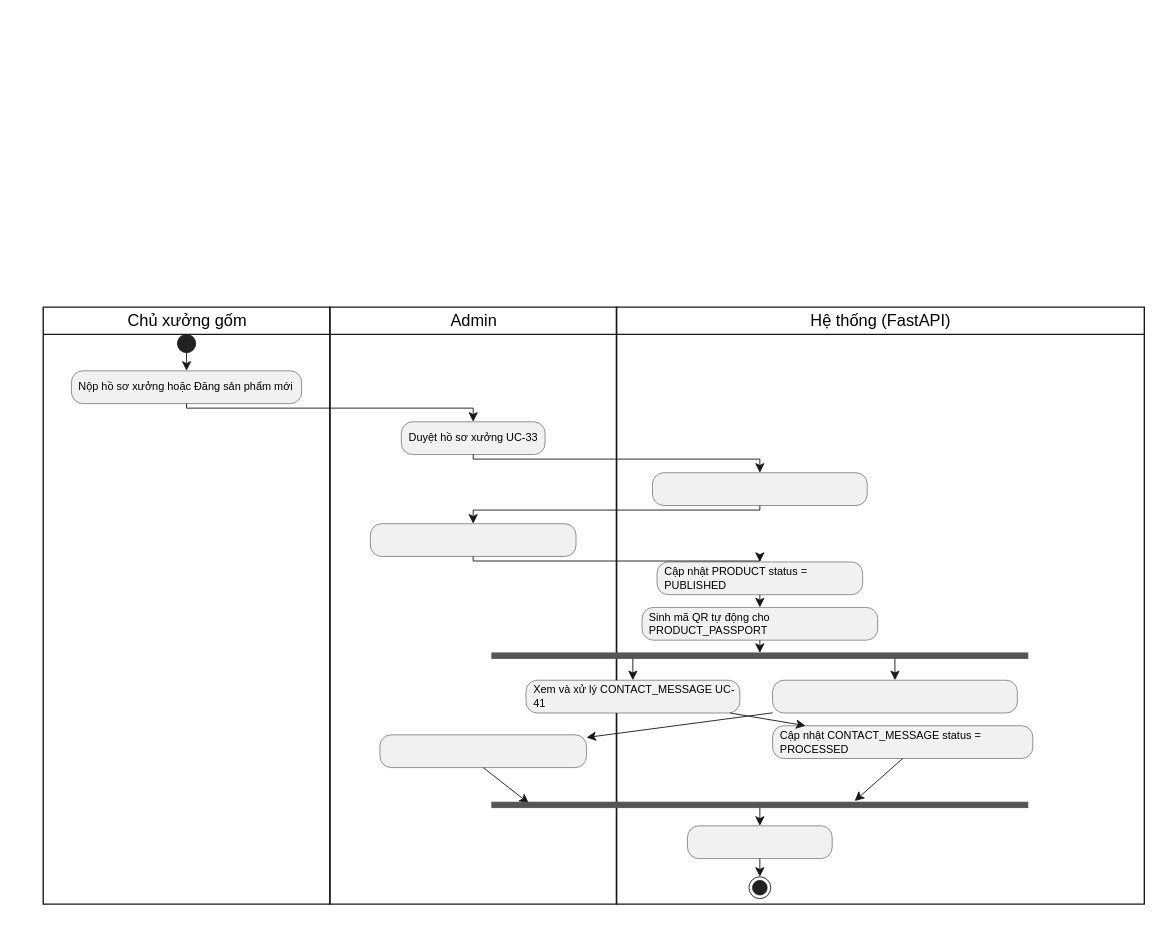
The diagram is 1168 pixels wide and 928 high, and some of its shapes have lost their labels. Here are the shapes that lost their labels. From the top down, the centre of each, then its label:
At point 759,488: "Cập nhật WORKSHOP is_approved = True".
At point 473,539: "Kiểm duyệt nội dung sản phẩm UC-34".
At point 894,696: "Xem báo cáo REVENUE_RECORD theo kỳ UC-38".
At point 482,750: "Thực hiện chuyển tiền đối soát UC-21".
At point 759,841: "Cập nhật lịch sử đối soát".
